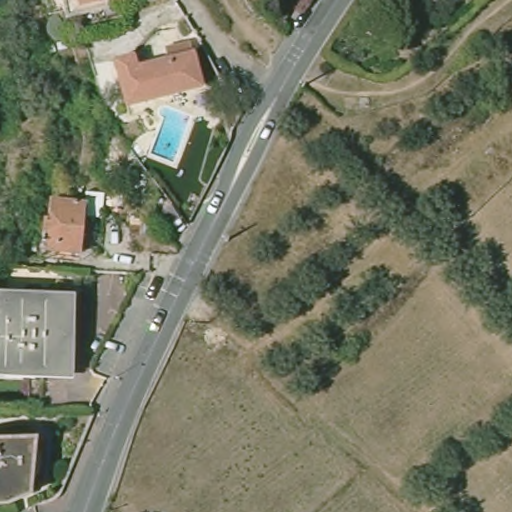pool: (149, 102, 195, 169)
